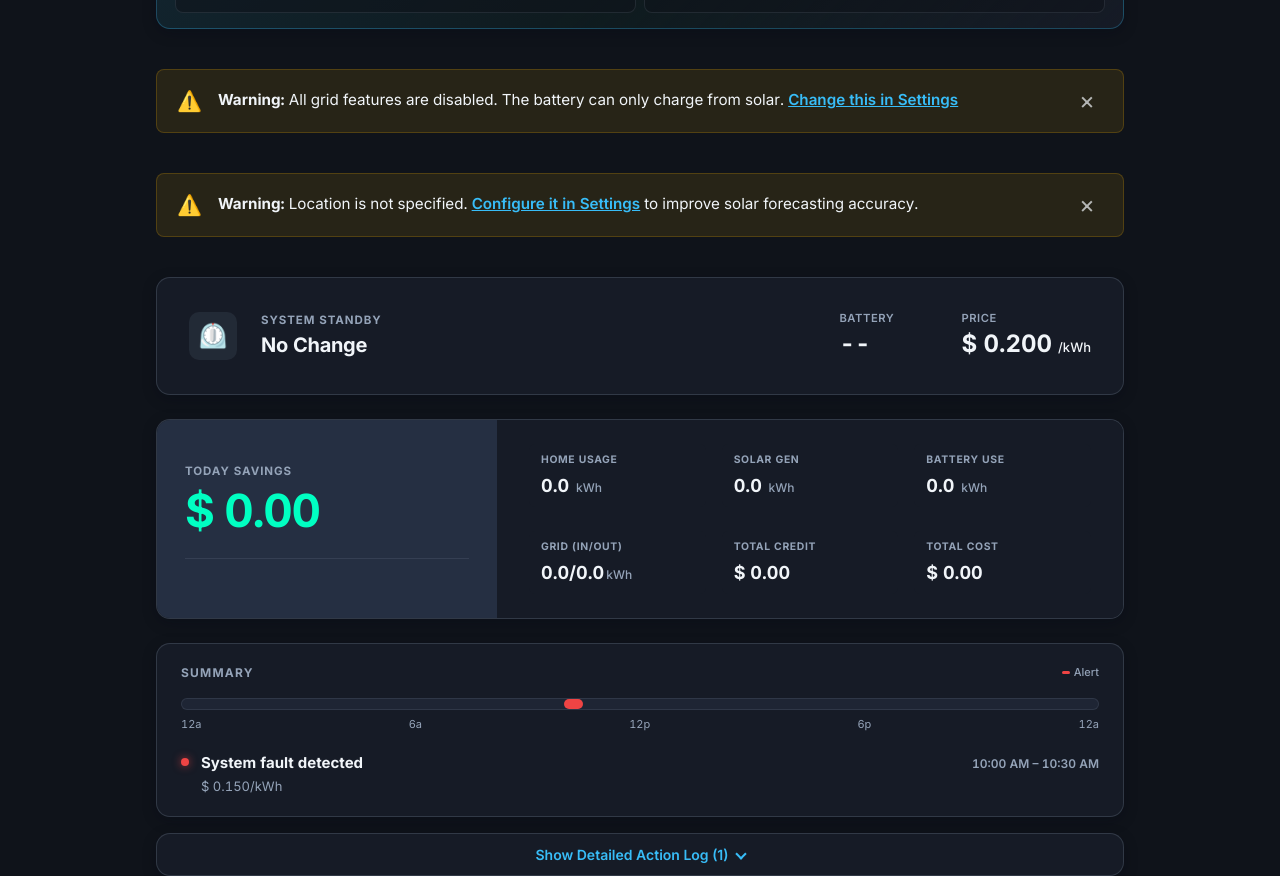
it: Dashboard › groups consecutive fault actions into summary
(page scrolled)
Click the button "Show Detailed Action Log (1)".
click(640, 854)  # box [156, 833, 1124, 875]
(page scrolled)
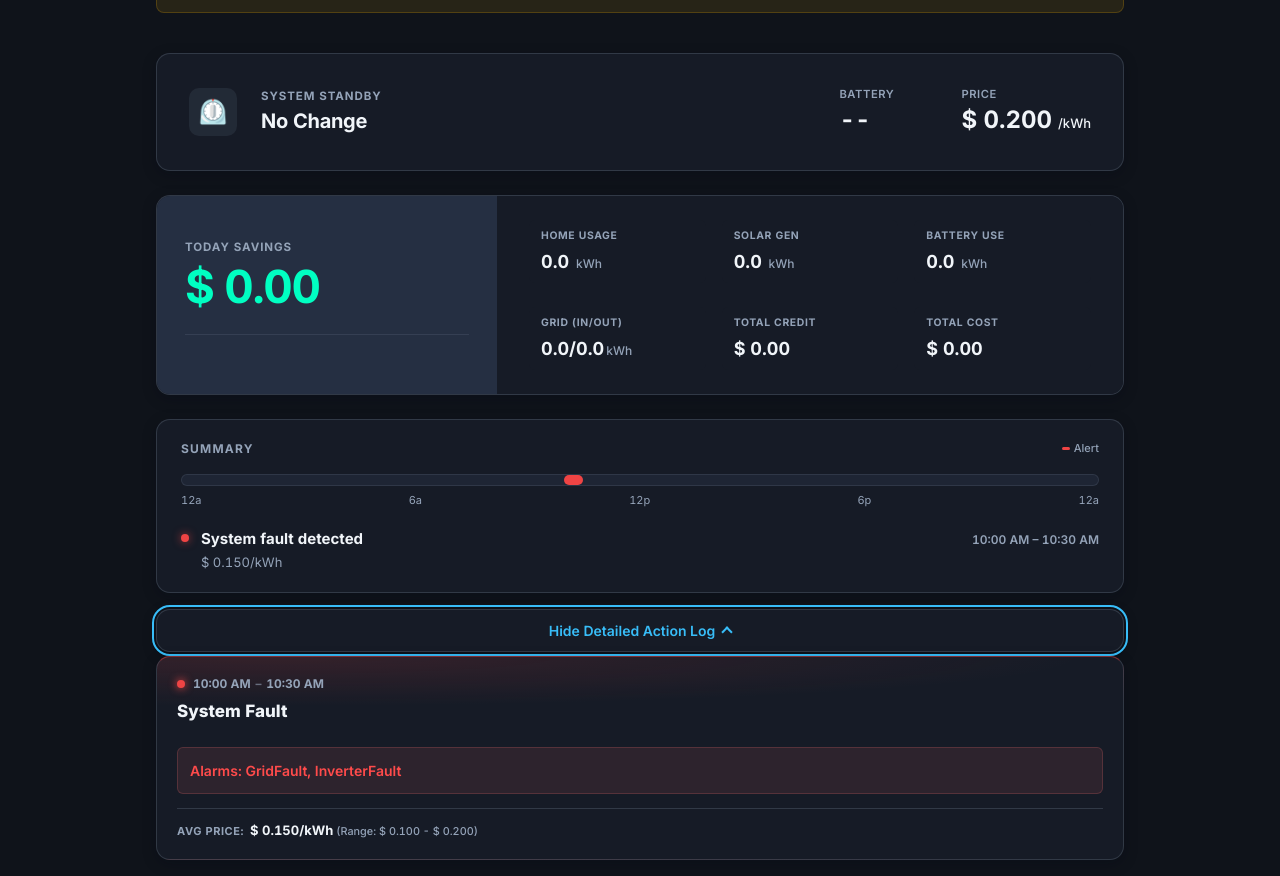
Now the heading "System Fault" is shown, box [177, 701, 287, 721]
Now the text "Alarms: GridFault, InverterFault" is shown, box [190, 762, 401, 778]
